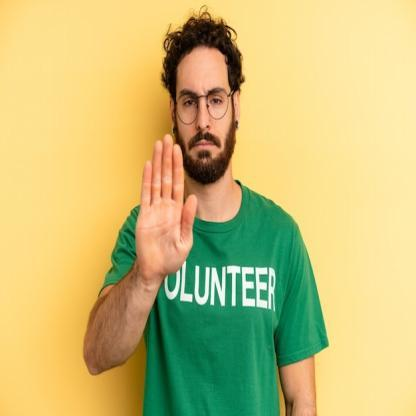stop: (134, 132, 198, 280)
